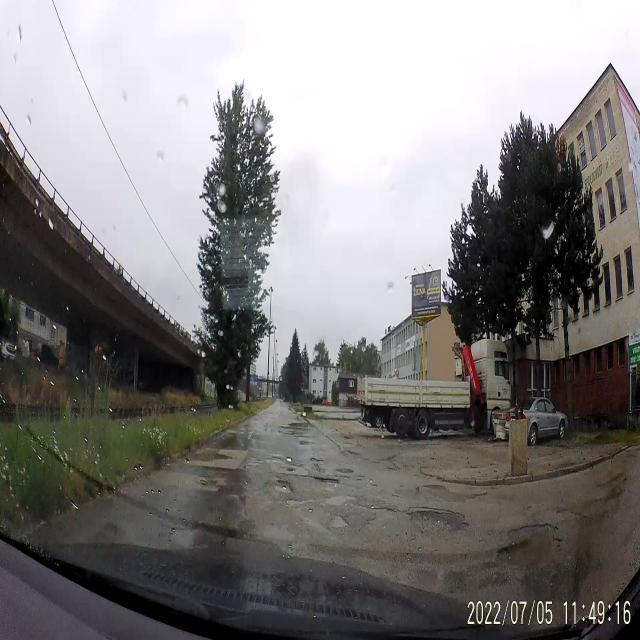Manhole: (335, 466, 355, 476)
Pothole: (491, 516, 566, 575), (407, 501, 465, 543), (358, 503, 398, 522), (188, 452, 234, 464), (312, 473, 340, 489), (422, 479, 447, 494), (276, 478, 294, 498), (328, 515, 351, 529), (310, 452, 324, 465), (297, 440, 317, 448), (264, 456, 282, 464), (246, 460, 263, 466), (287, 466, 297, 474), (354, 476, 366, 482), (371, 482, 377, 487)
